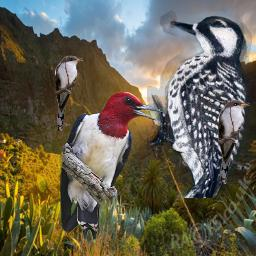Cuckoo: (217, 99, 250, 184), (54, 55, 83, 131)
Woodpecker: (147, 9, 252, 198), (56, 92, 165, 243)
